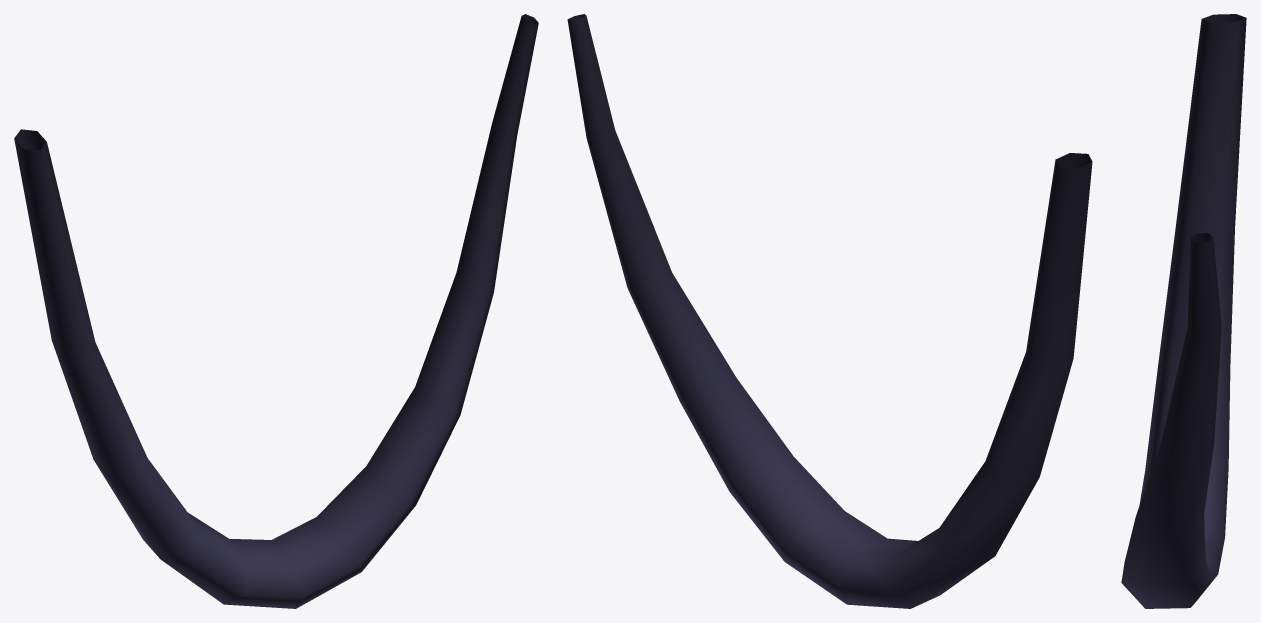
The model's file is SKM_Platform_Сord_01.fbx.
3 renders of one model, left to right at view 1: azimuth 30°, elevation 25°; view 2: azimuth 150°, elevation 25°; view 3: azimuth 270°, elevation 25°, orthographic. The views are drawn at different scales.
Parts seen in each view (by area): view 1: SKM_Platform_Сord_01; view 2: SKM_Platform_Сord_01; view 3: SKM_Platform_Сord_01.
Part boxes in pixels (x1,y1,x2,y2): SKM_Platform_Сord_01: (14, 14, 538, 608); SKM_Platform_Сord_01: (567, 14, 1092, 608); SKM_Platform_Сord_01: (1121, 14, 1246, 608).
Bounding box in the file's own units: 319 × 305 × 70.95.
